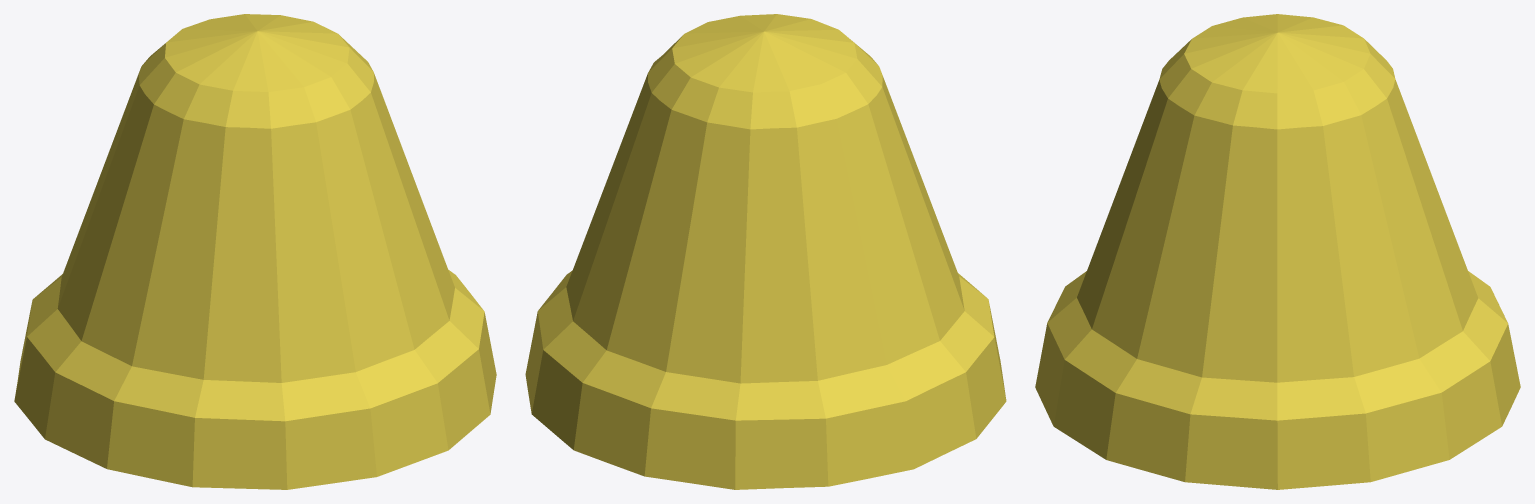
Rendered from bell.fbx.
3 renders of one model, left to right at view 1: azimuth 30°, elevation 25°; view 2: azimuth 150°, elevation 25°; view 3: azimuth 270°, elevation 25°, orthographic.
Parts seen in each view (by area): view 1: Cone; view 2: Cone; view 3: Cone.
Boxes of the visible parts, x1=… form: Cone: x1=14, y1=14, x2=496, y2=489; Cone: x1=525, y1=14, x2=1006, y2=489; Cone: x1=1035, y1=14, x2=1520, y2=489.
Bounding box in the file's own units: 2.19 × 1.77 × 2.19.
